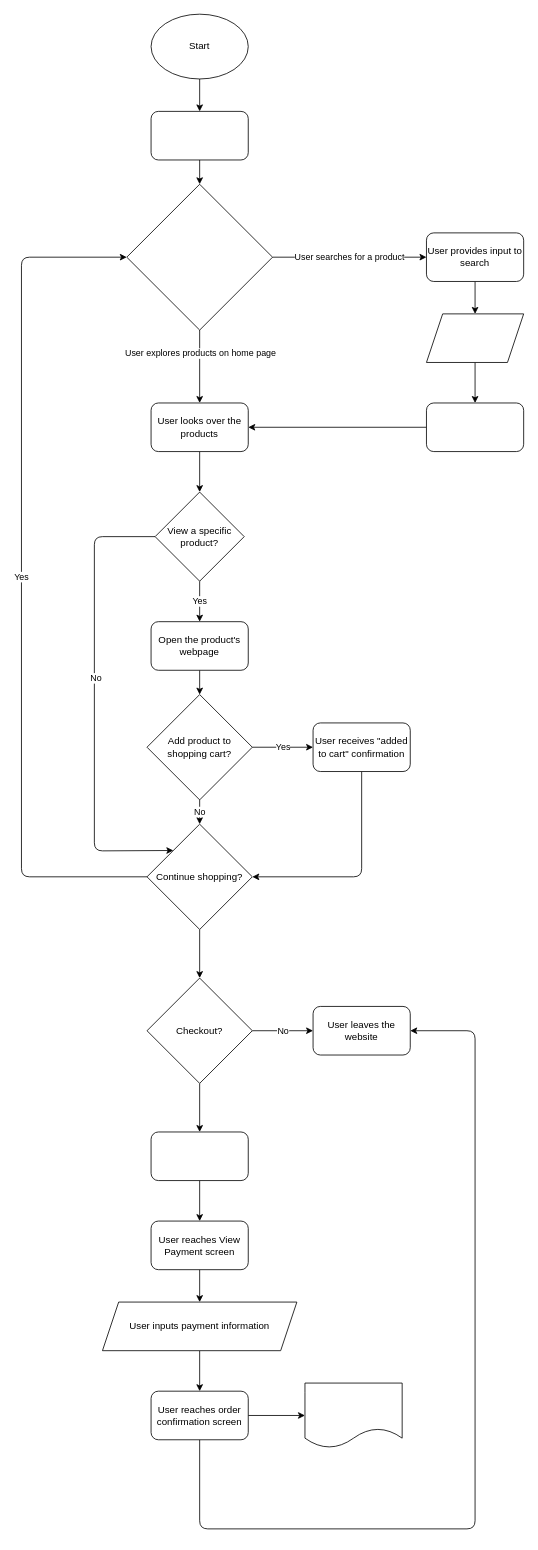
The diagram is 538 pixels wide and 1550 high, and some of its shapes have lost their labels. Each missing label, with the centre of its shape:
"Display products matching search query" goes at point (475, 427).
"Get search data" goes at point (475, 337).
"User can search or explore products on home page" goes at point (199, 256).
"User enters the website" goes at point (199, 135).
"User reaches View Cart screen" goes at point (199, 1156).
"User receives an email confirmation of their order" goes at point (353, 1415).
